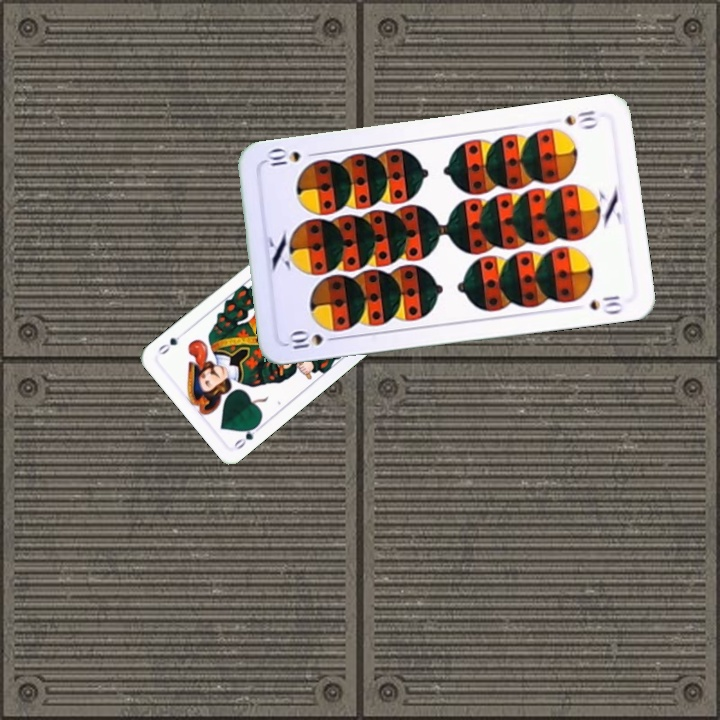GO: (229, 419, 265, 452)
S10: (283, 328, 342, 352), (561, 106, 600, 131)
